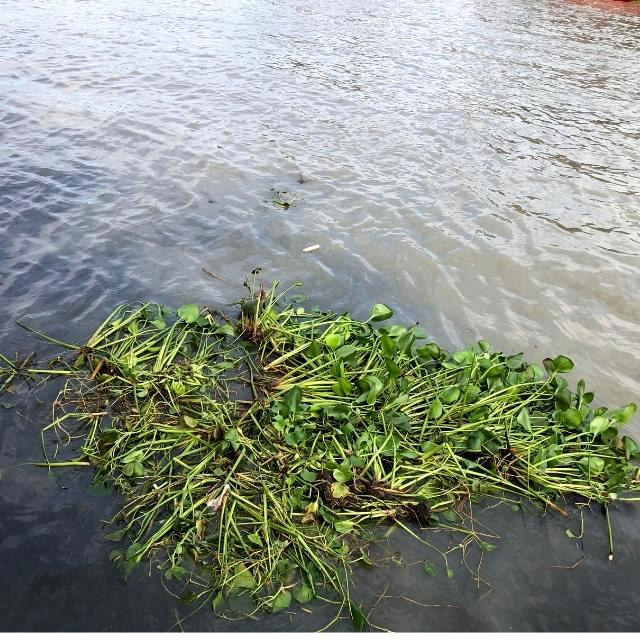water-hyacinth: (1, 266, 637, 629)
